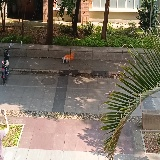fire: (64, 51, 74, 60)
